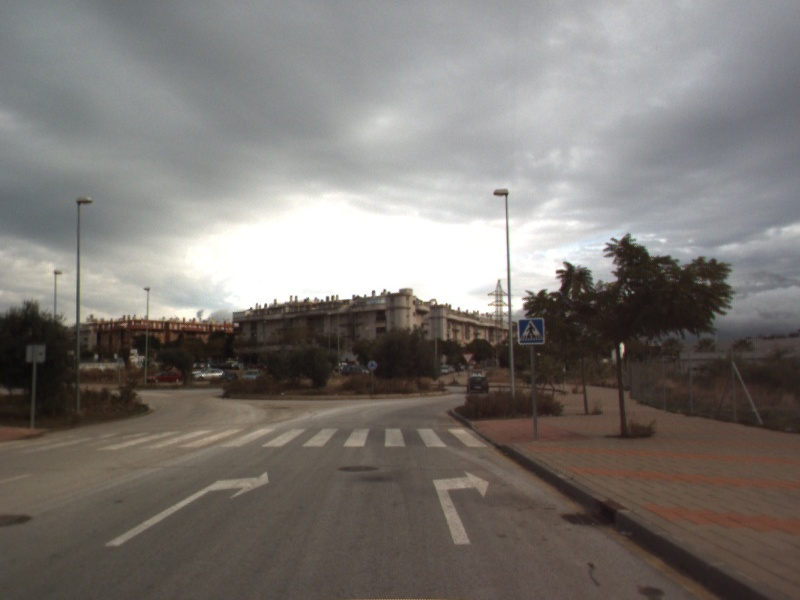RIGHT: (103, 469, 271, 548), (430, 469, 491, 547)
